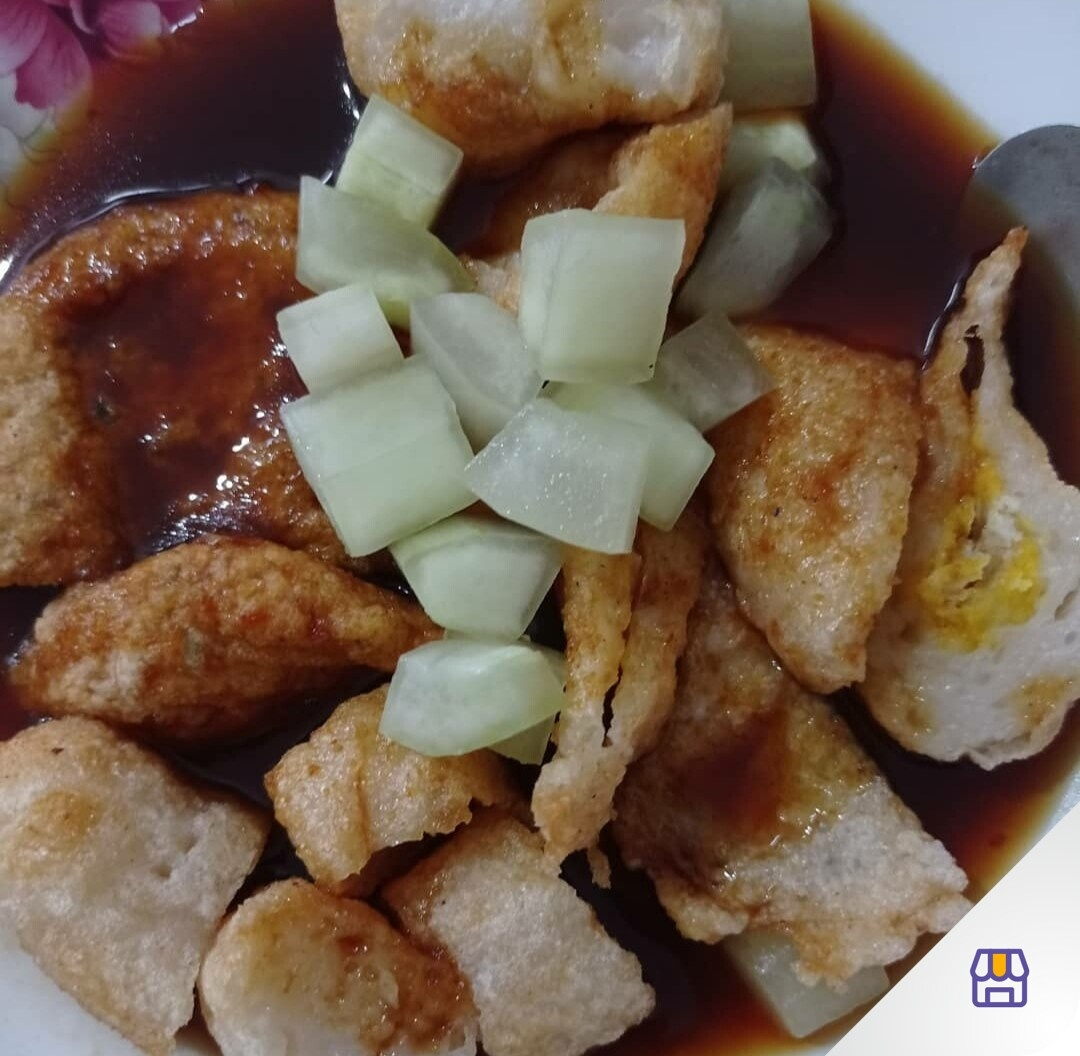pempek: (3, 1, 1080, 1056)
